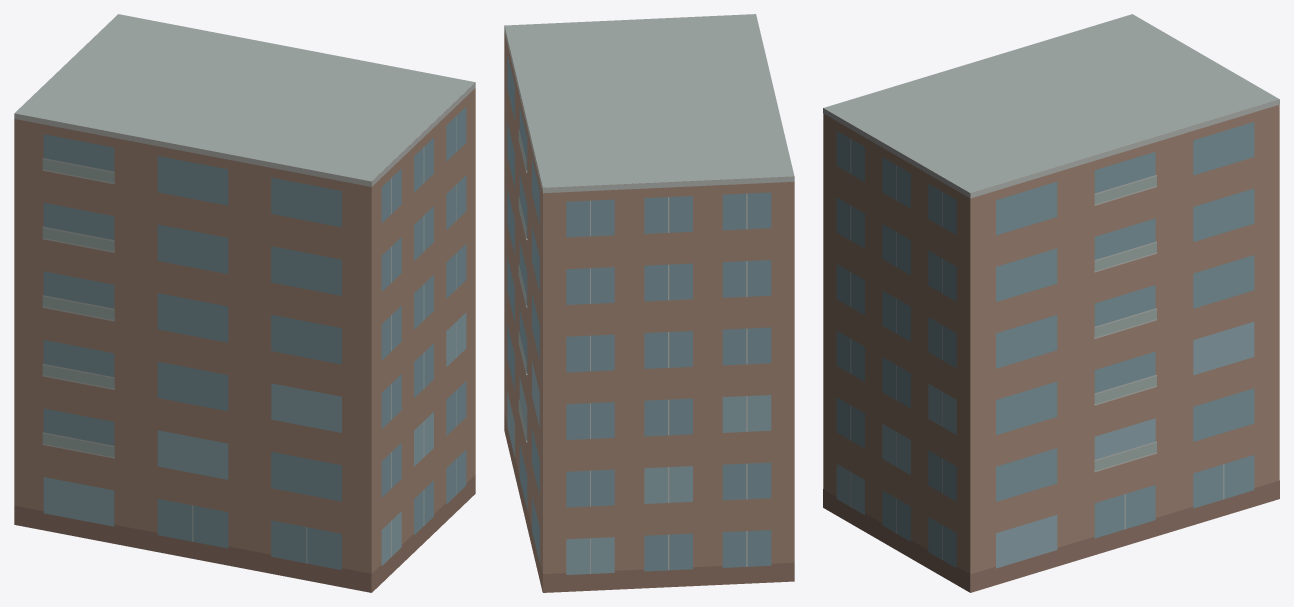
Rendered from survey-upis-32931069.glb.
3 views of the same model, side by side, from view 1: azimuth 30°, elevation 25°; view 2: azimuth 150°, elevation 25°; view 3: azimuth 270°, elevation 25° (orthographic). The views are drawn at different scales.
Visible parts, largest first — view 1: survey-upis-32931069.tmp; view 2: survey-upis-32931069.tmp; view 3: survey-upis-32931069.tmp.
Part boxes in pixels (x1,y1,x2,y2): survey-upis-32931069.tmp: (14, 14, 475, 592); survey-upis-32931069.tmp: (504, 14, 794, 592); survey-upis-32931069.tmp: (823, 14, 1279, 592).
Size of the model in its own units: 17.61 by 18.3 by 18.96.
